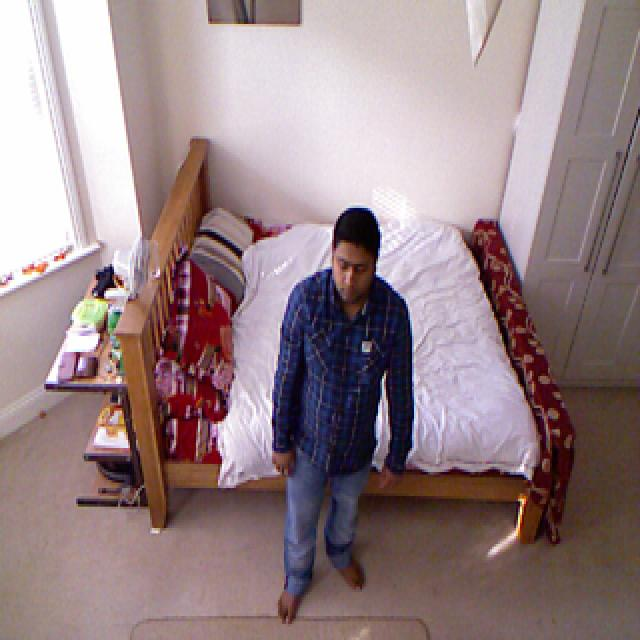standing: (271, 202, 412, 622)
